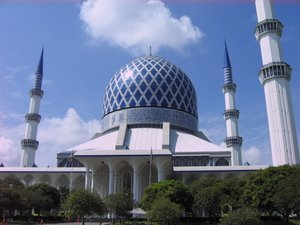Mosque: (20, 1, 295, 189)
